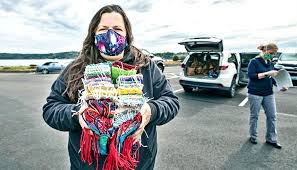mask: (95, 29, 128, 55), (263, 52, 276, 58)
